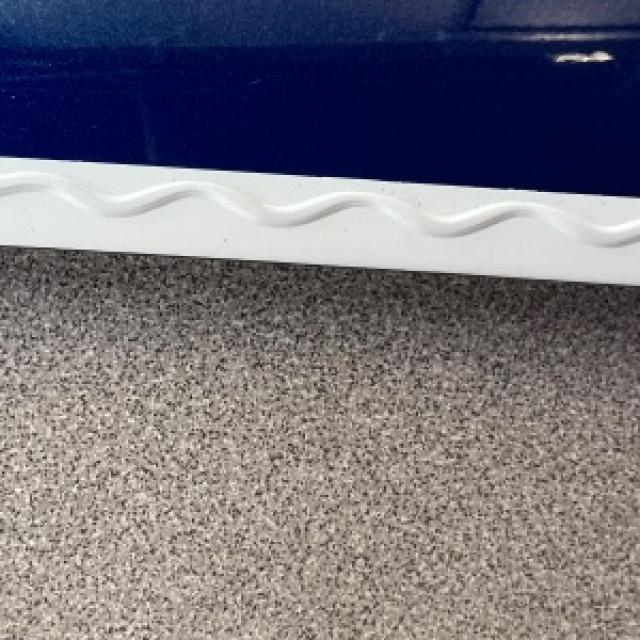healthy: (0, 0, 638, 282), (0, 158, 638, 282)
